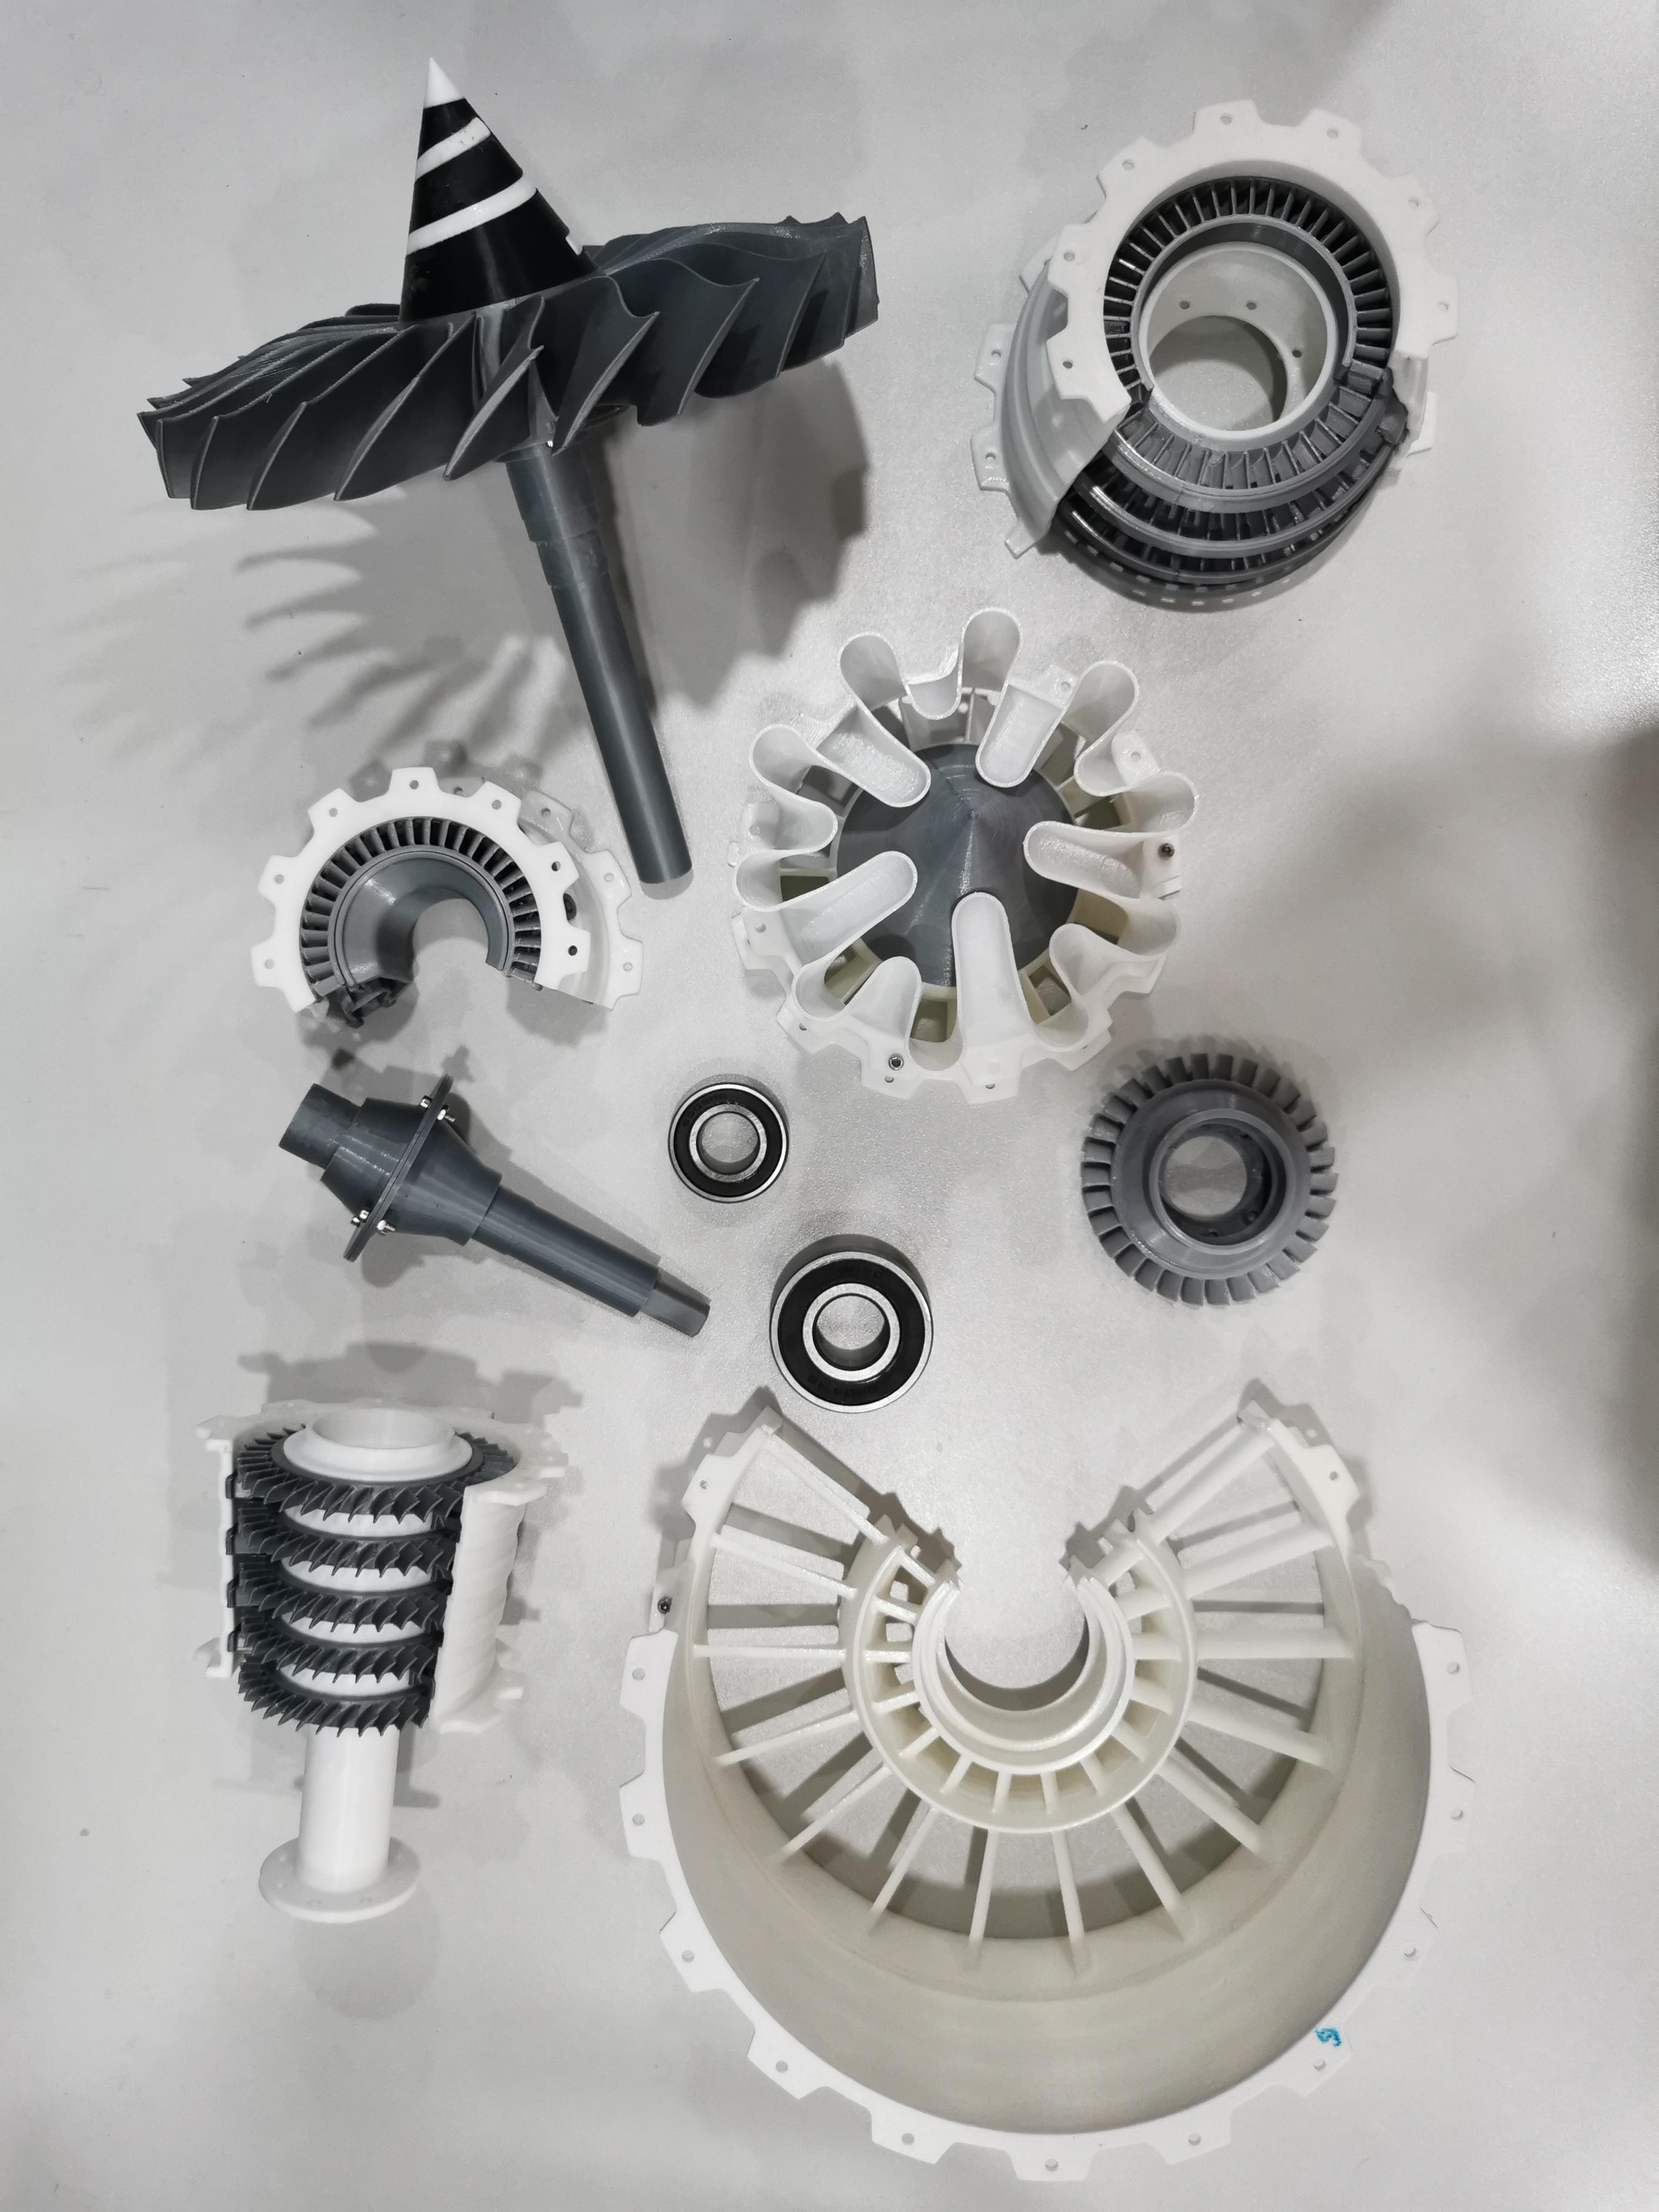Bearing-6003: (636, 1064, 807, 1216)
Bearing-6204: (748, 1228, 983, 1426)
Combustion Section: (209, 765, 655, 1050)
Fan and Low Pressure Shaft: (132, 45, 884, 895)
HPT Section: (1066, 1038, 1373, 1312)
High Pressure Spool: (605, 1392, 1493, 2193), (152, 1378, 589, 1954)
LPT Section: (958, 75, 1469, 597)
Low Pressure Spool: (227, 1052, 716, 1359)
Nozzle Section: (727, 604, 1206, 1111)
